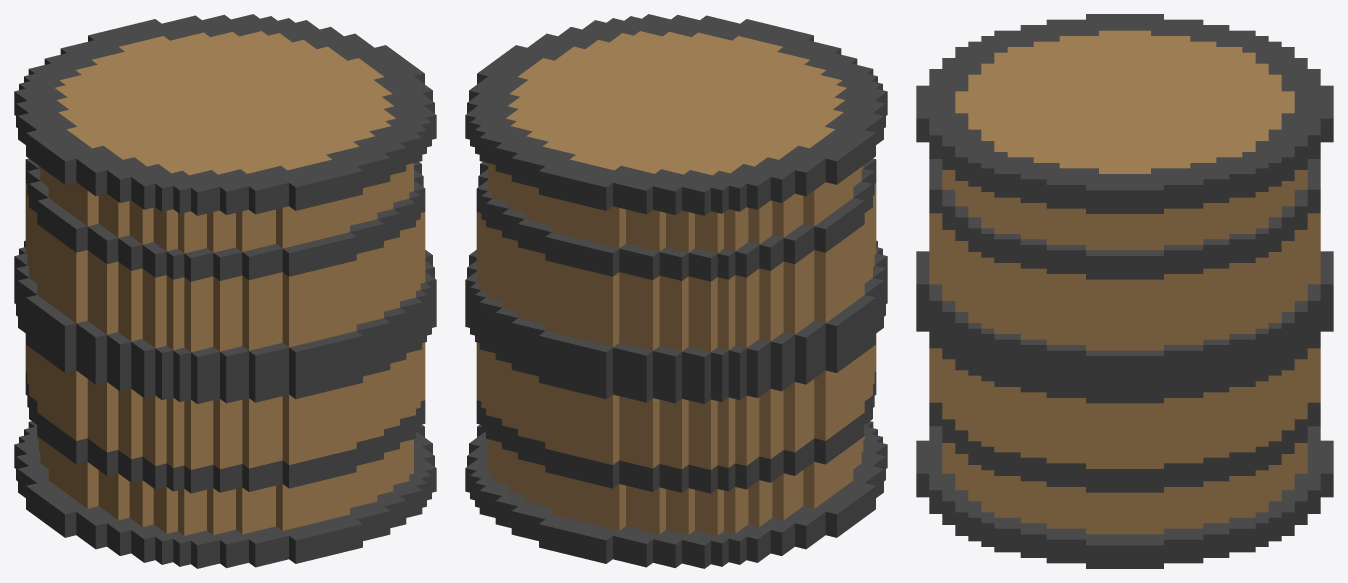
File: Barrel 1.obj
The picture shows the model from 3 angles, left to right: view 1: azimuth 30°, elevation 25°; view 2: azimuth 150°, elevation 25°; view 3: azimuth 270°, elevation 25°; orthographic projection.
Bounding box in the file's own units: 3.2 × 3.2 × 3.2.
1 material, 1 textured.
